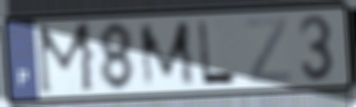3: (297, 12, 338, 85)
8: (96, 20, 137, 93)
L: (195, 18, 239, 87)
M: (34, 20, 98, 98), (136, 18, 198, 91)
Z: (243, 15, 292, 86)
